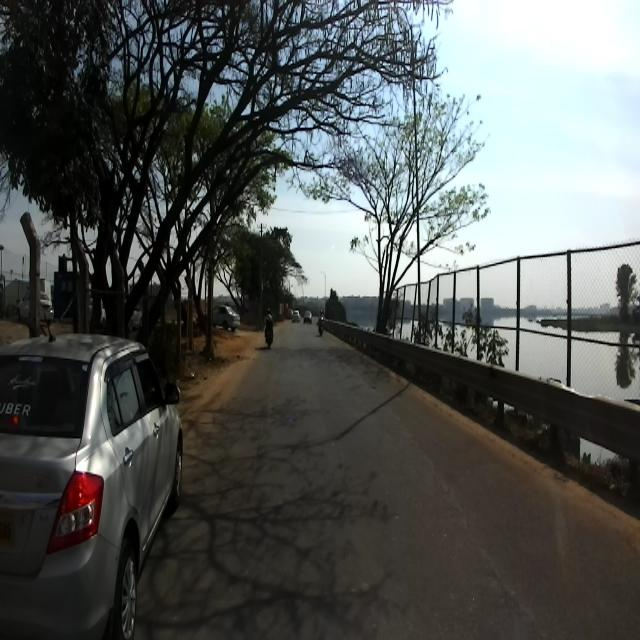Car_Maruti-Suzuki: (0, 310, 184, 639), (211, 303, 241, 332)
